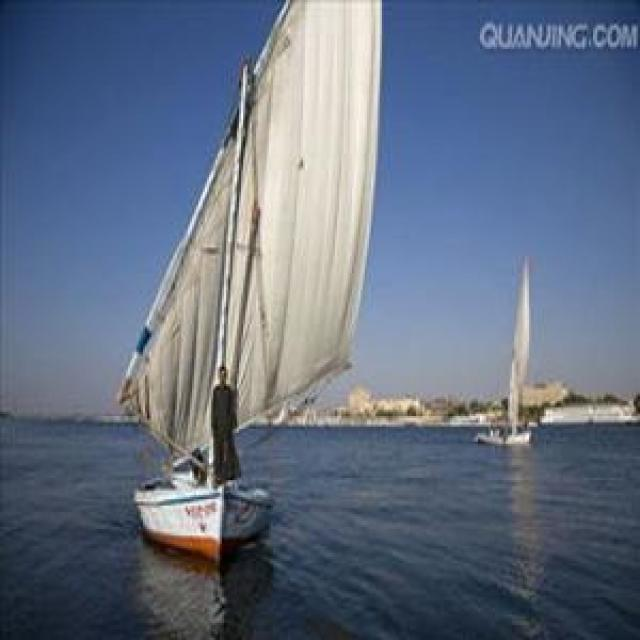sailboat: (110, 0, 383, 559), (474, 255, 544, 454)
